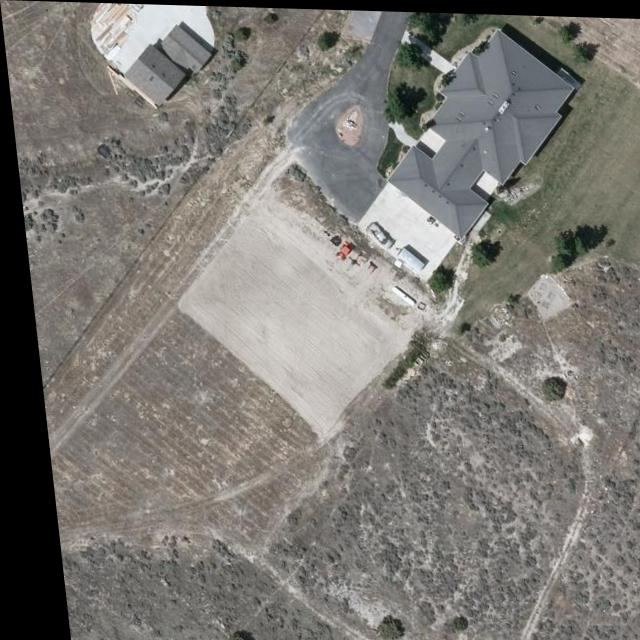vehicle: (360, 219, 392, 247)
